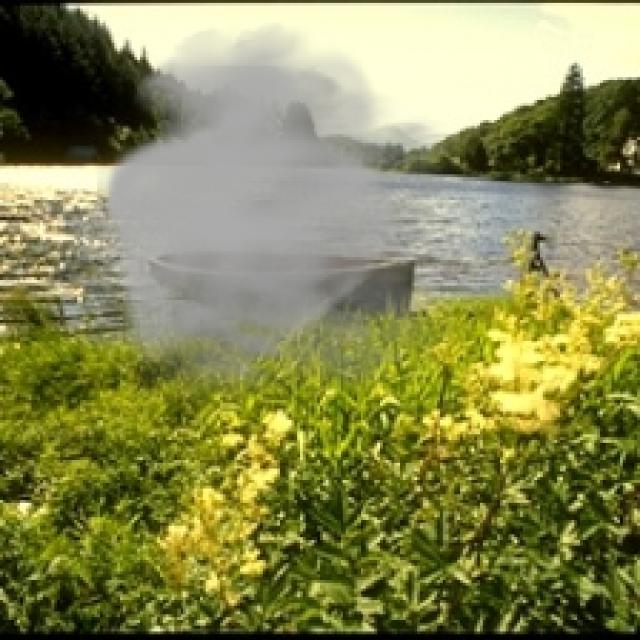smoke: (97, 23, 497, 414)
